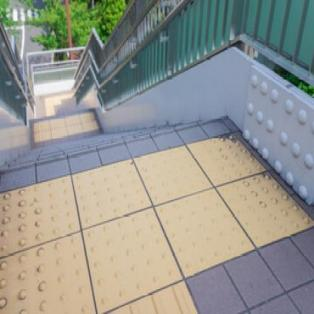Podoctatil: (0, 128, 314, 314)
